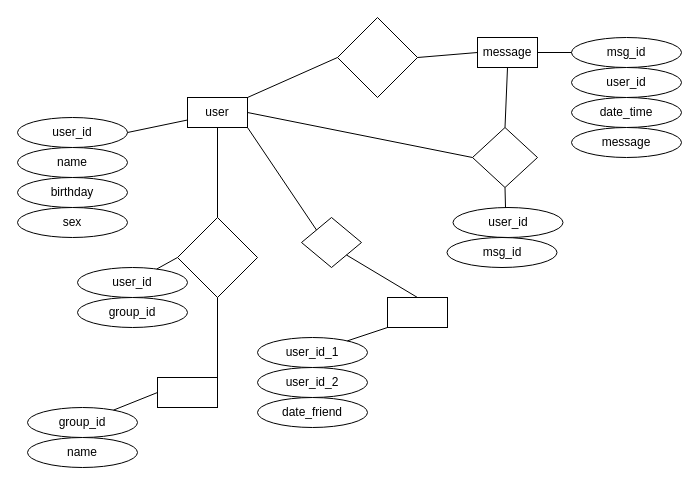
The diagram is 699 pixels wide and 485 high, and some of its shapes have lost their labels. Here are the shapes that lost their labels. From the top down, the centre of each, then its label:
At point 377,57: "publishes".
At point 505,157: "like".
At point 217,257: "belong".
At point 331,242: "has".
At point 417,312: "friends".
At point 187,392: "group".
